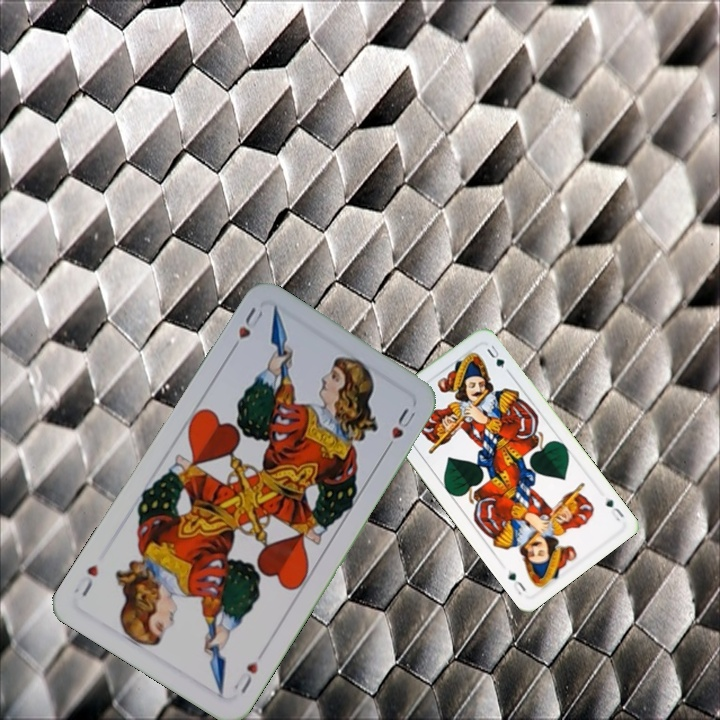GU: (601, 493, 626, 524)
HU: (226, 303, 266, 356), (229, 657, 261, 696)
